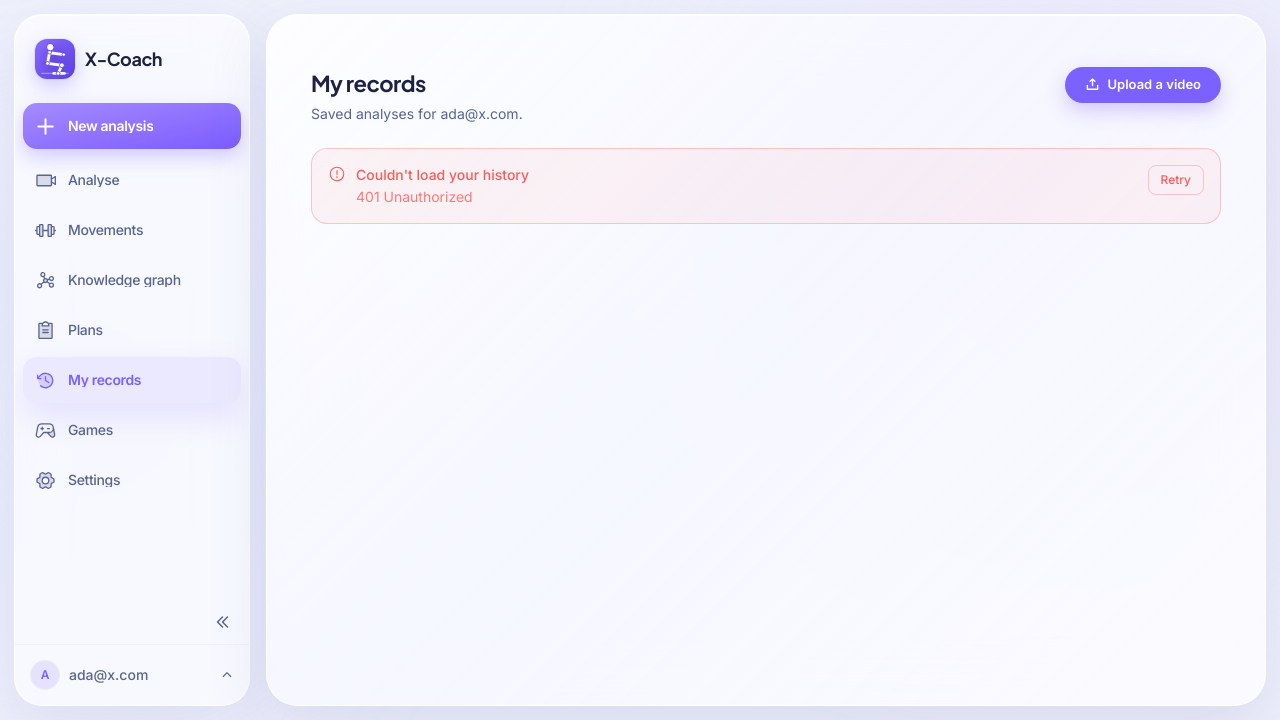
Test case: History › shows an error and retries
Expected: the text "Couldn't load your history" is shown, [356,166,529,183]
Click the button "Retry": (1176, 180) [1148,165,1204,195]
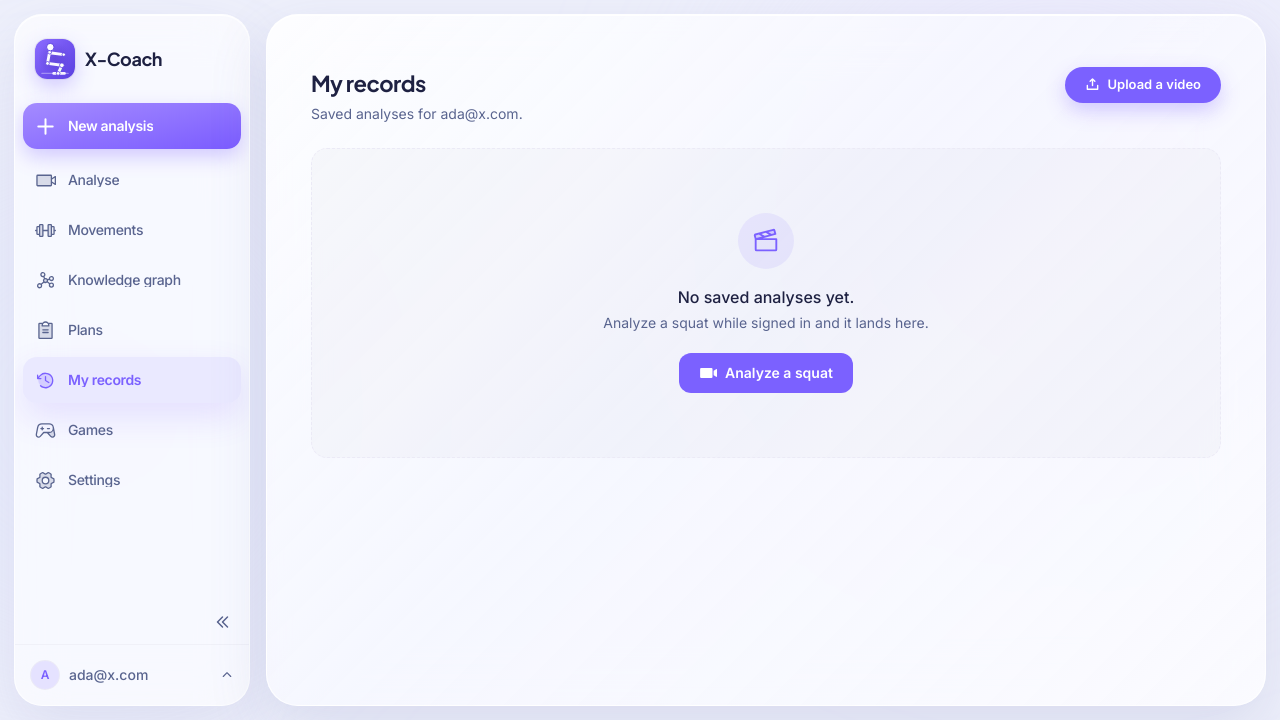
Result: the text "No saved analyses yet." is shown at [678,287,854,307]
